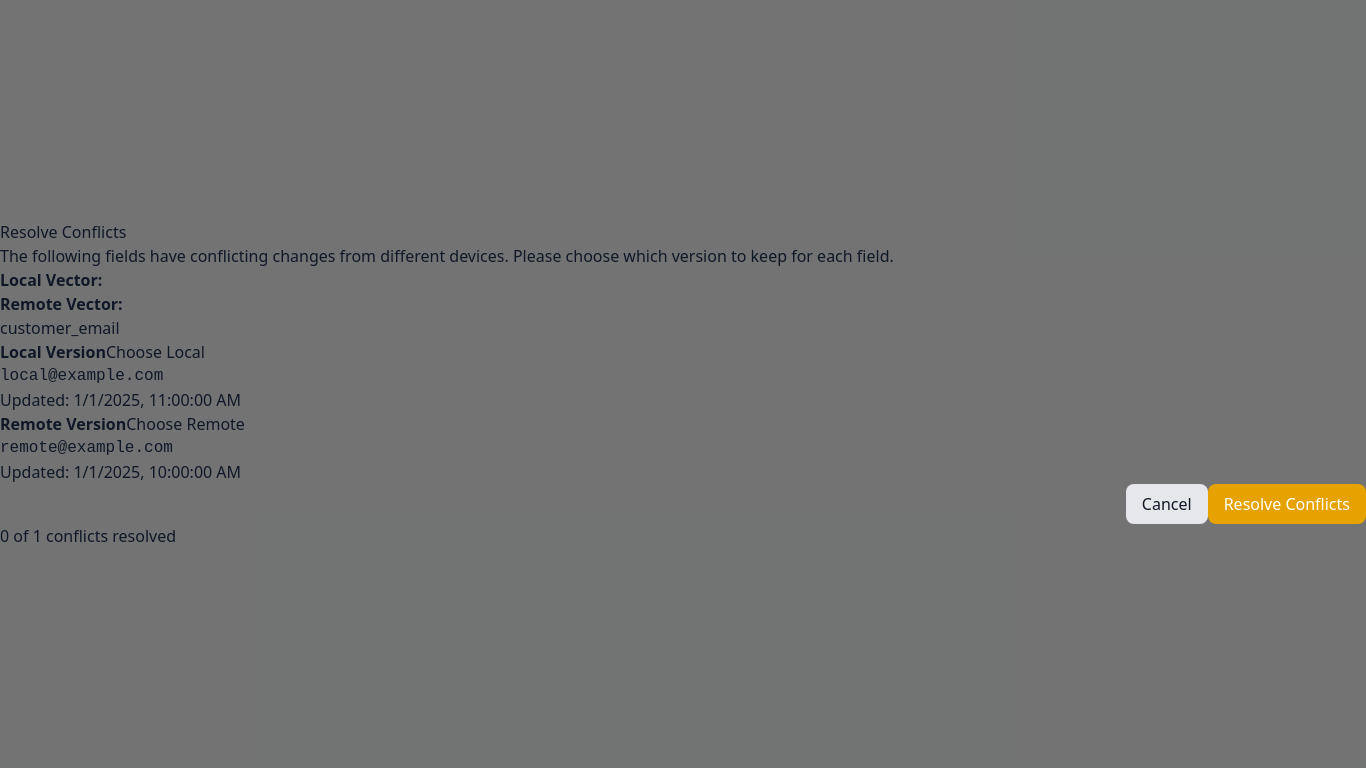
Test: ConflictResolutionModal › Interaction › should allow selecting local version
Note: Click "Choose Local" button
Click the button "Choose Local": (155, 352) [106,340,205,364]
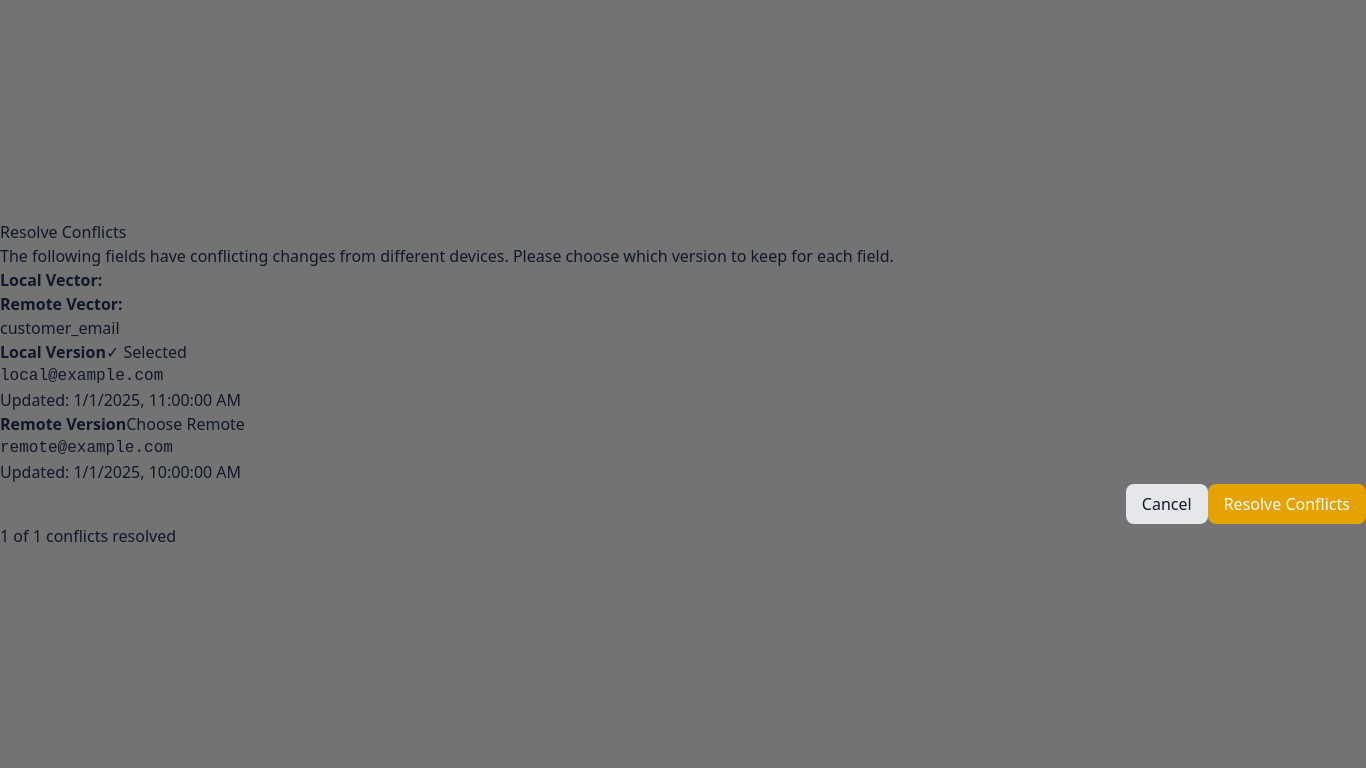
Check: the button "✓ Selected" is shown, box [106,340,187,364]
